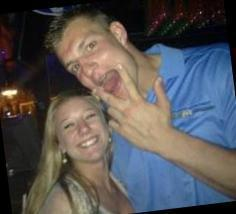Drunk: (65, 21, 134, 100), (56, 101, 106, 161)
